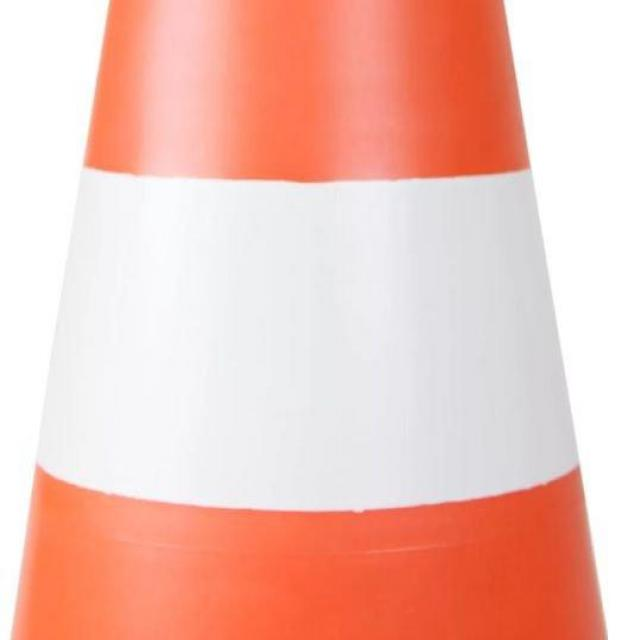cone: (23, 2, 614, 637)
